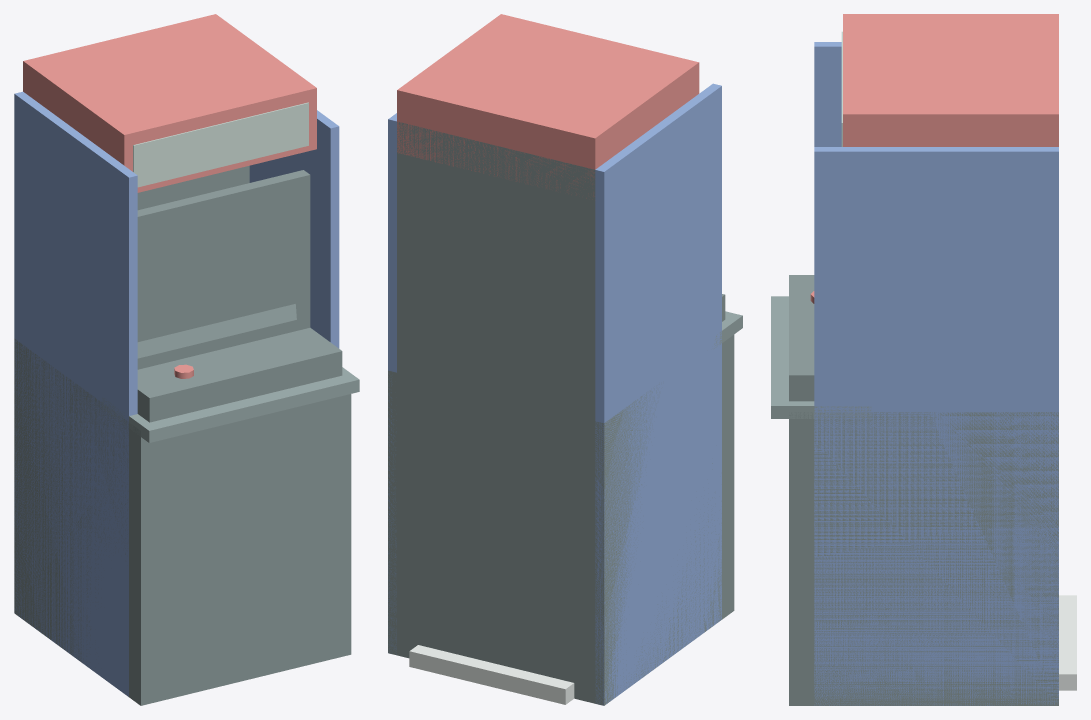
File: arcadeCabinet.glb
The picture shows the model from 3 angles, left to right: view 1: azimuth 30°, elevation 25°; view 2: azimuth 150°, elevation 25°; view 3: azimuth 270°, elevation 25°; orthographic projection. The views are drawn at different scales.
Visible parts, largest first — view 1: arcadeCabinet, anim:screen; view 2: arcadeCabinet; view 3: arcadeCabinet.
Part boxes in pixels (x1,y1,x2,y2): arcadeCabinet: [14, 14, 359, 705]; anim:screen: [137, 304, 296, 358]; arcadeCabinet: [388, 14, 742, 705]; arcadeCabinet: [771, 14, 1076, 705].
Size of the model in its own units: 0.36 by 0.9 by 0.425.
